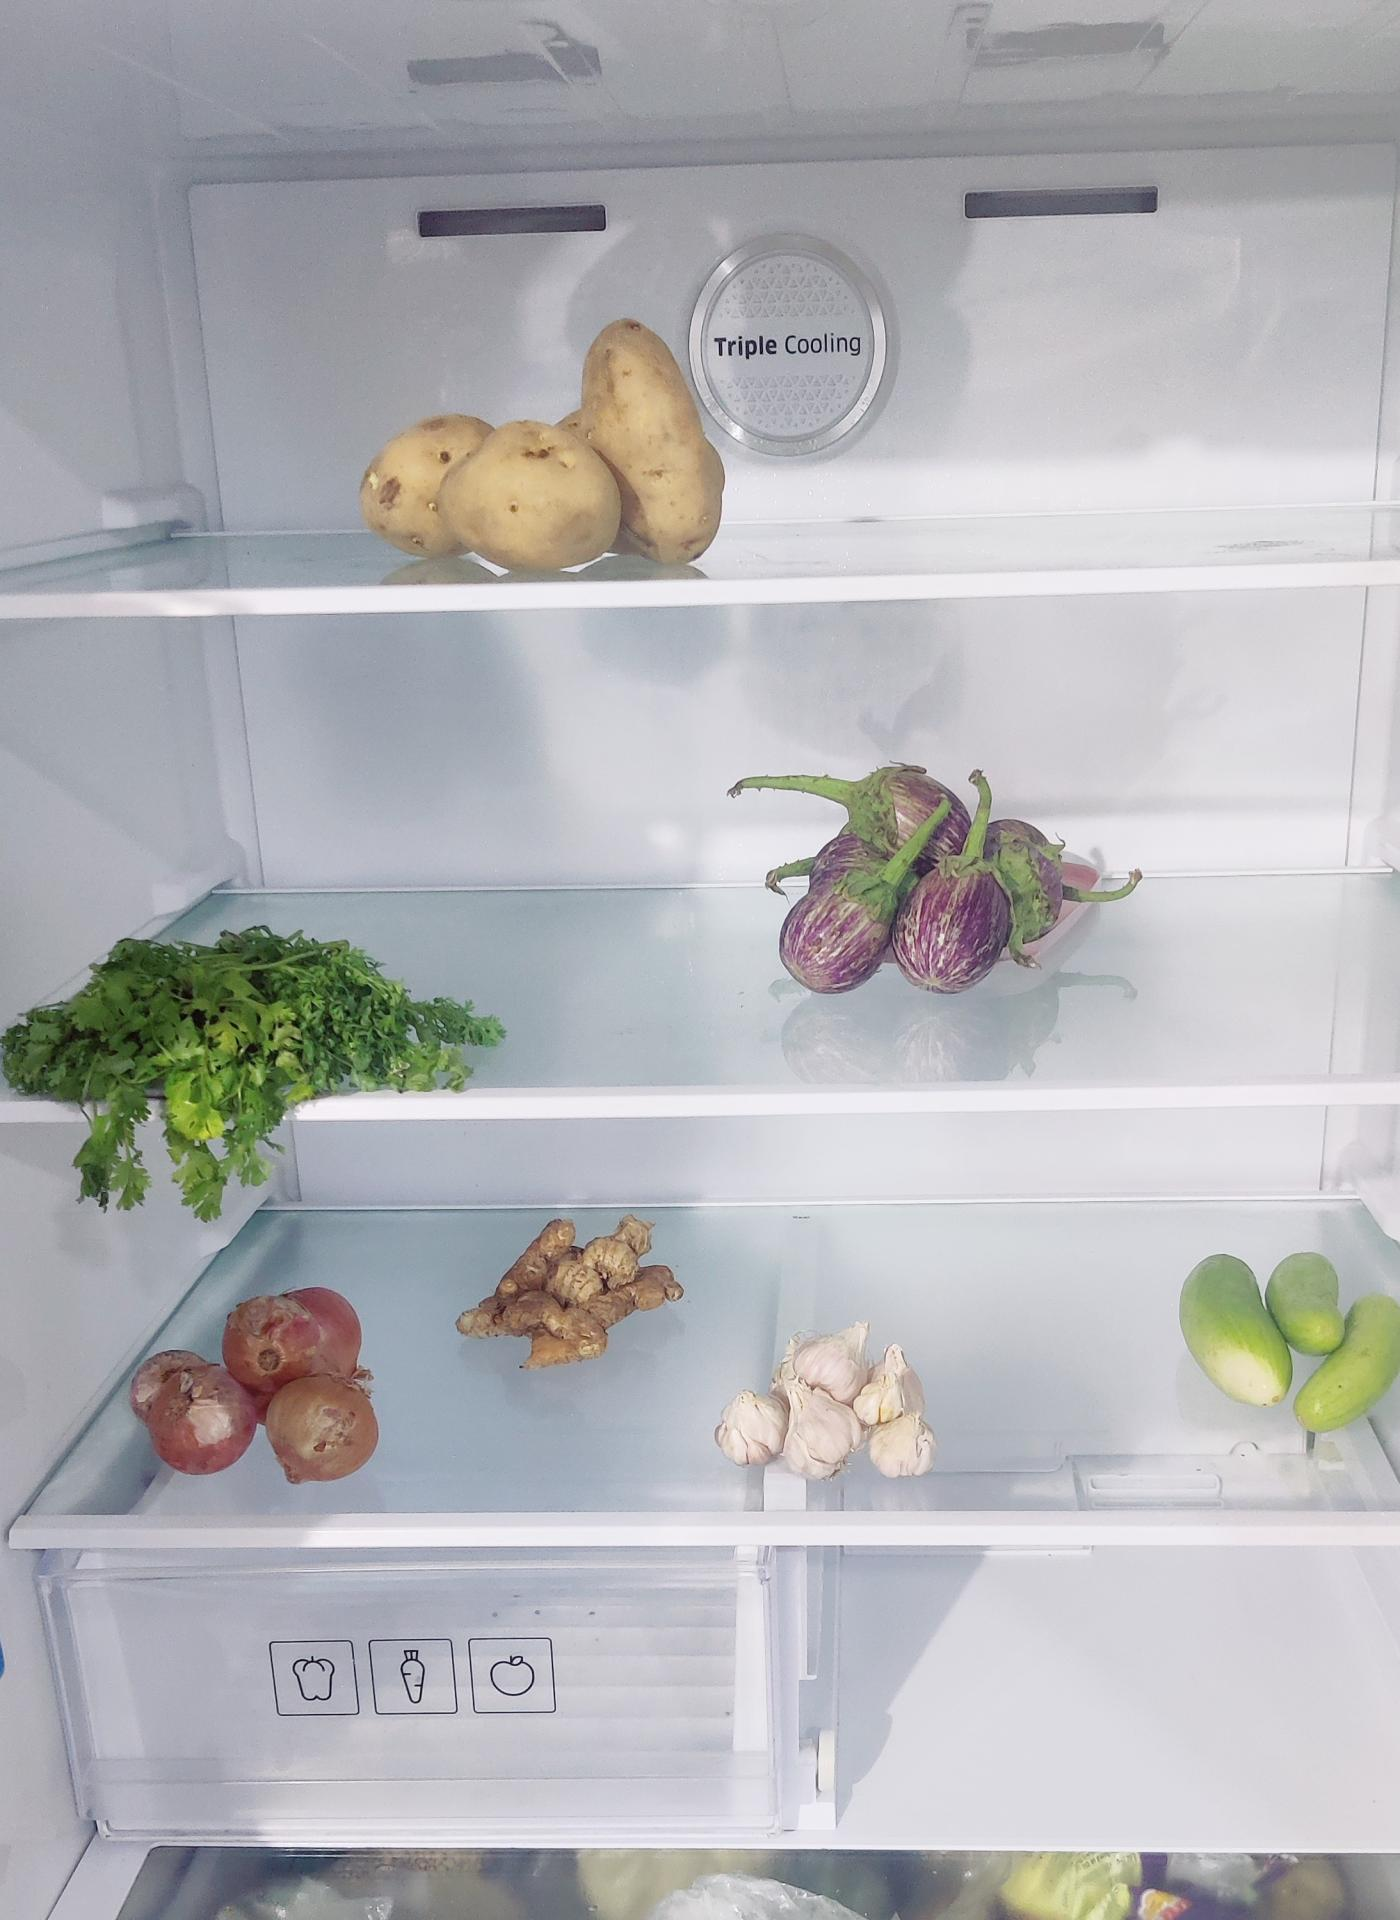brinjal: (737, 729, 1100, 990)
coriander: (12, 933, 488, 1143)
cucumber: (1175, 1251, 1397, 1444)
garlic: (716, 1321, 935, 1483)
ginger: (462, 1212, 683, 1367)
onion: (125, 1275, 376, 1491)
potato: (361, 319, 732, 571)
